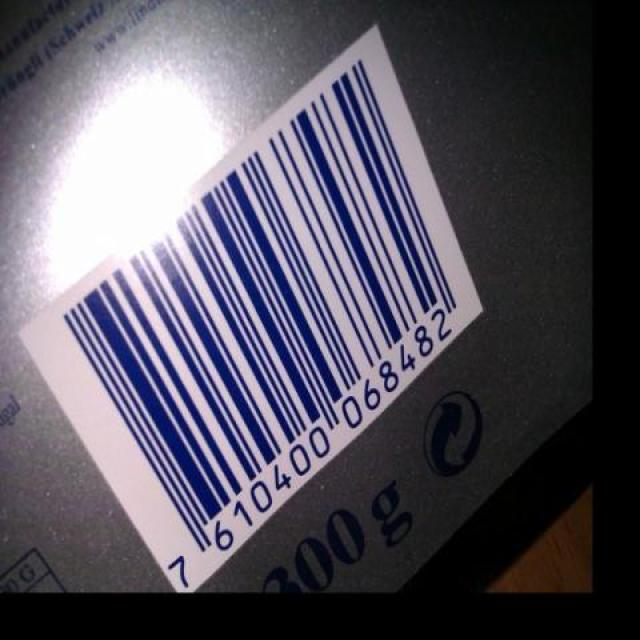Barcode: (17, 22, 483, 593)
